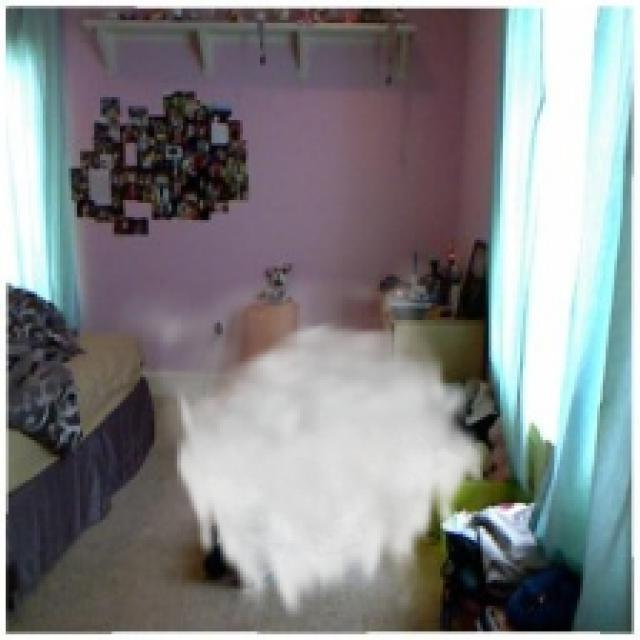Smoke: (106, 248, 488, 626)
